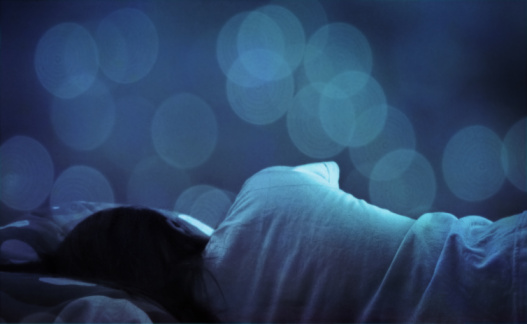deitado: (135, 31, 527, 324)
